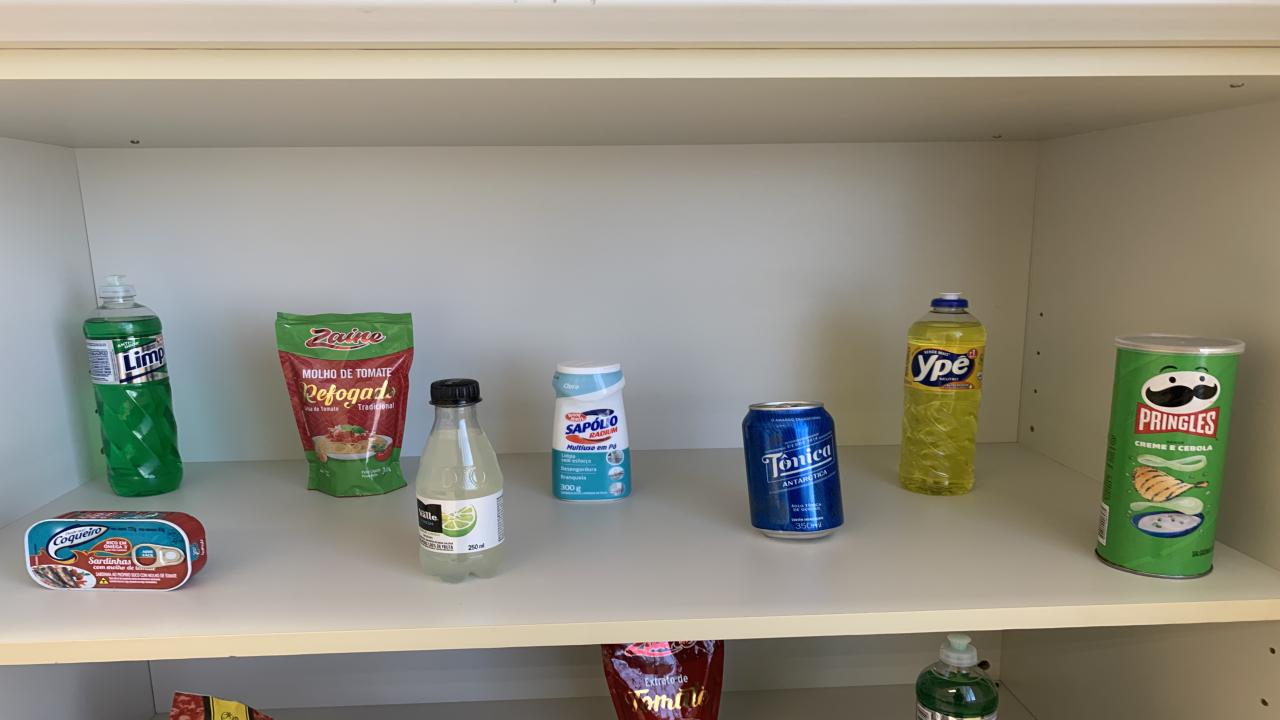Cleaner-Cleanup_Items: (552, 362, 630, 502)
Detergent-Cleanup_Items: (82, 276, 182, 497), (900, 294, 988, 495), (915, 632, 998, 720)
Pringles-Snacks: (1095, 336, 1242, 578)
Soda-Drinks: (415, 379, 505, 583)
Tomato_Sauce-Pantry_Items: (275, 313, 415, 497), (602, 639, 725, 720), (170, 692, 272, 720)
Tonic-Drinks: (742, 401, 842, 538)
Tuna_Can-Pantry_Items: (25, 510, 208, 591)
